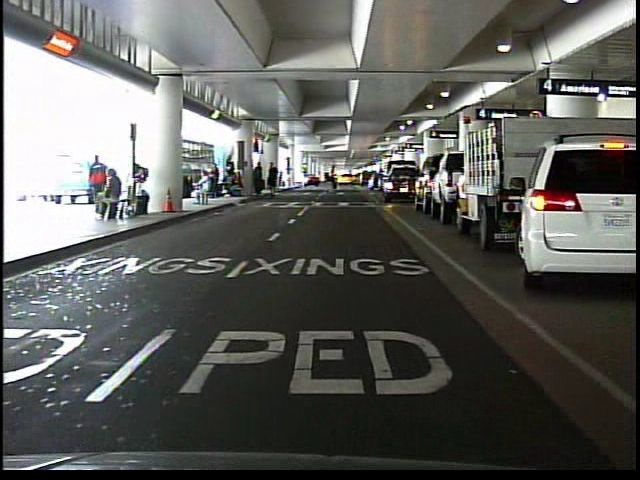person: (192, 171, 216, 208), (318, 163, 340, 196)
